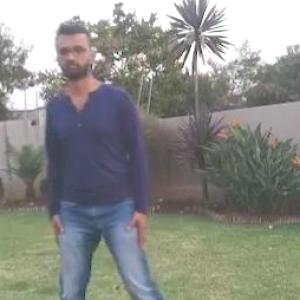follow: (34, 15, 156, 299)
